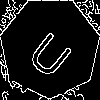U: (25, 22, 81, 81)
